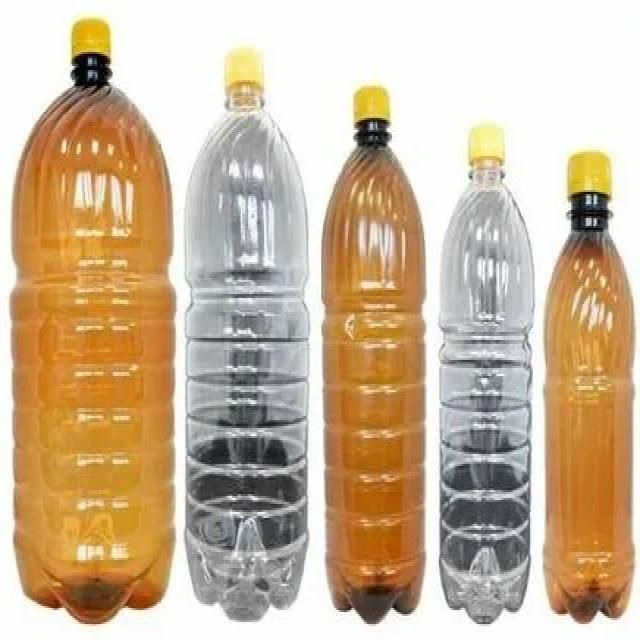brown: (11, 64, 175, 624), (318, 121, 428, 626), (542, 196, 636, 622)
